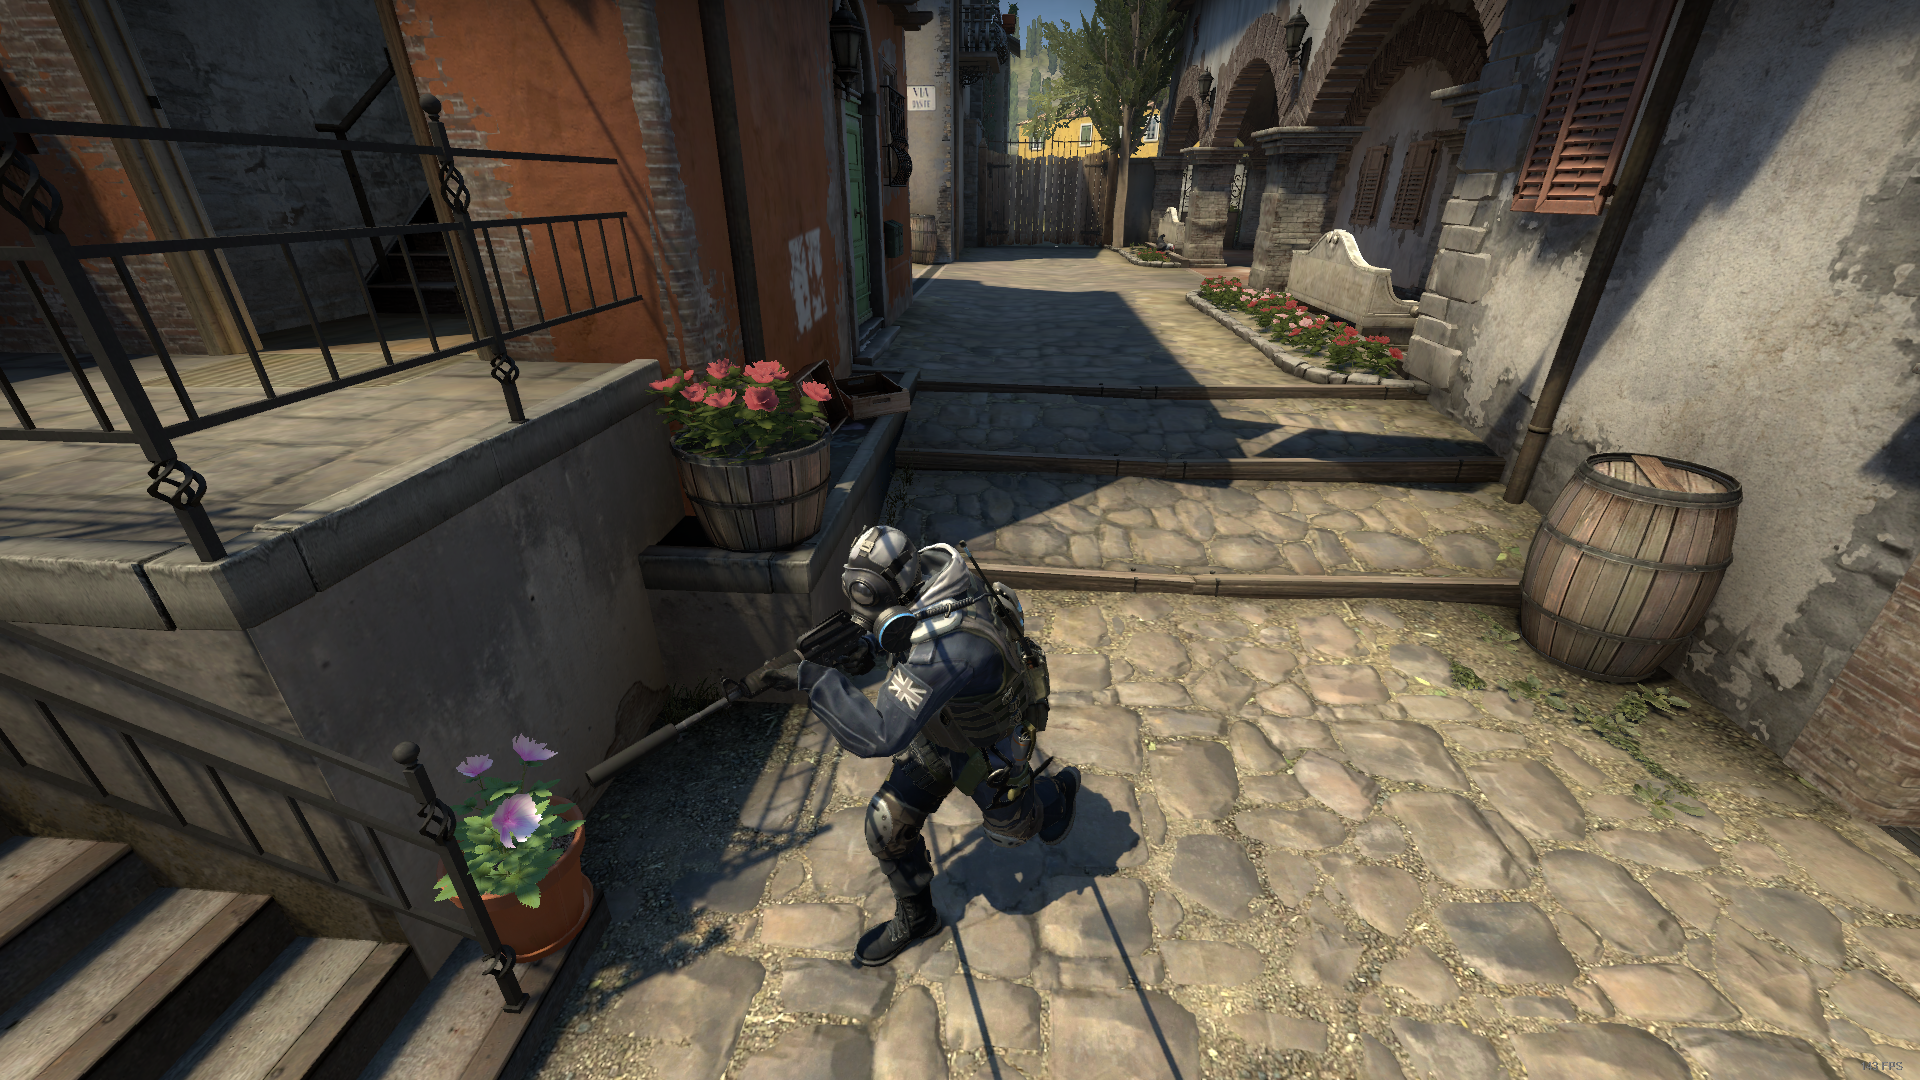ct: (783, 524, 1100, 976)
